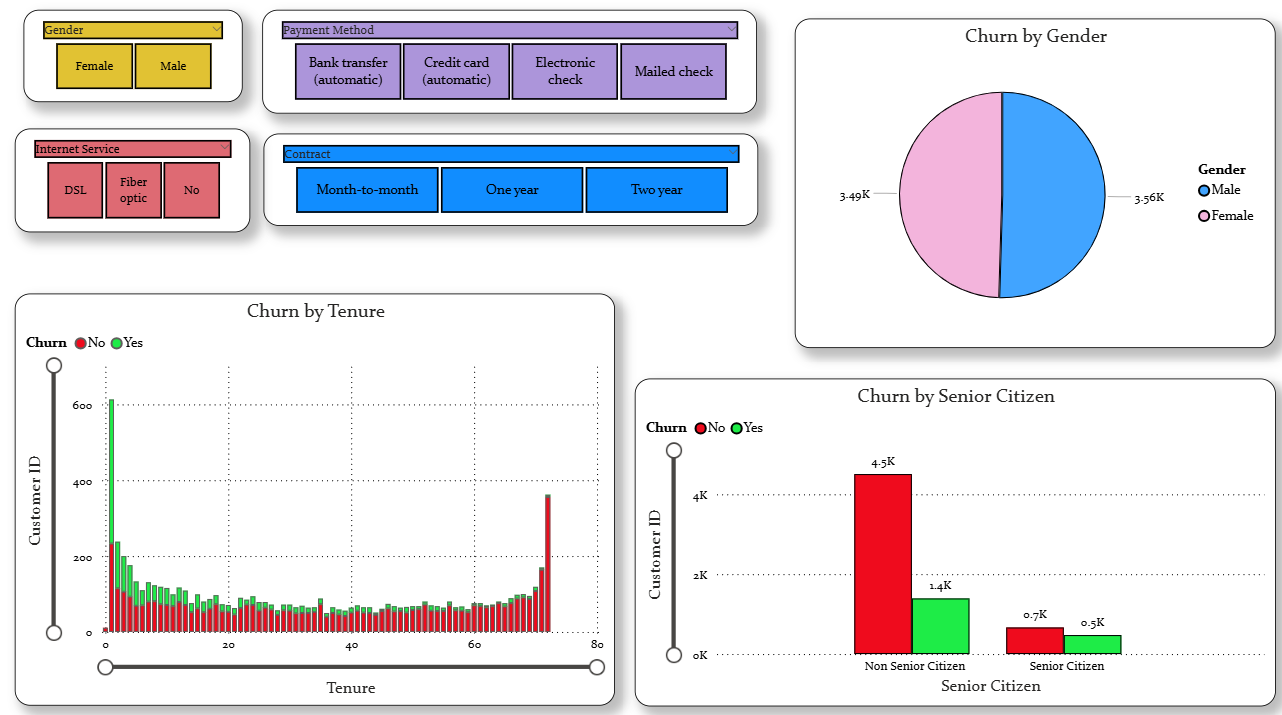

Layout of this report page (visuals, bound fields, positions):
{"tool":"powerbi","page":{"name":"Customer Behaviour","canvas":[1280,720],"ordinal":1},"visuals":[{"type":"columnChart","title":"Churn by Tenure","fields":{"Category":["Telco-Customer-Churn.tenure"],"Y":["CountNonNull(Telco-Customer-Churn.customerID)"],"Series":["Telco-Customer-Churn.Churn"]},"box":[23.3,296.4,587.3,403.4],"z":0},{"type":"pieChart","title":"Churn by Gender","fields":{"Category":["Telco-Customer-Churn.gender"],"Y":["CountNonNull(Telco-Customer-Churn.customerID)"]},"box":[786.3,27.4,470.7,322.5],"z":1000},{"type":"clusteredColumnChart","title":"Churn by Senior Citizen","fields":{"Y":["CountNonNull(Telco-Customer-Churn.customerID)"],"Series":["Telco-Customer-Churn.Churn"],"Category":["Telco-Customer-Churn.Senior Citizen Type"]},"box":[629.8,378.7,627.1,321.1],"z":2000},{"type":"slicer","fields":{"Values":["Telco-Customer-Churn.gender"]},"box":[31.8,17.8,214.1,90.6],"z":2001},{"type":"slicer","fields":{"Values":["Telco-Customer-Churn.Contract"]},"box":[266.2,140,484.4,90.6],"z":2002},{"type":"slicer","fields":{"Values":["Telco-Customer-Churn.InternetService"]},"box":[23.6,134.5,230.5,101.5],"z":2003},{"type":"slicer","fields":{"Values":["Telco-Customer-Churn.PaymentMethod"]},"box":[264.8,17.8,484.4,101.5],"z":2004}]}

Visuals, with their boxes in screenshot pixels (x1, y1, x2, y2), scaled from the page's 1280x720 canvas onto the 1282x715 screenshot:
"Churn by Tenure" columnChart: select_region(23, 294, 612, 695)
"Churn by Gender" pieChart: select_region(788, 27, 1259, 347)
"Churn by Senior Citizen" clusteredColumnChart: select_region(631, 376, 1259, 695)
slicer - Telco-Customer-Churn.gender: select_region(32, 18, 246, 108)
slicer - Telco-Customer-Churn.Contract: select_region(267, 139, 752, 229)
slicer - Telco-Customer-Churn.InternetService: select_region(24, 134, 254, 234)
slicer - Telco-Customer-Churn.PaymentMethod: select_region(265, 18, 750, 118)
